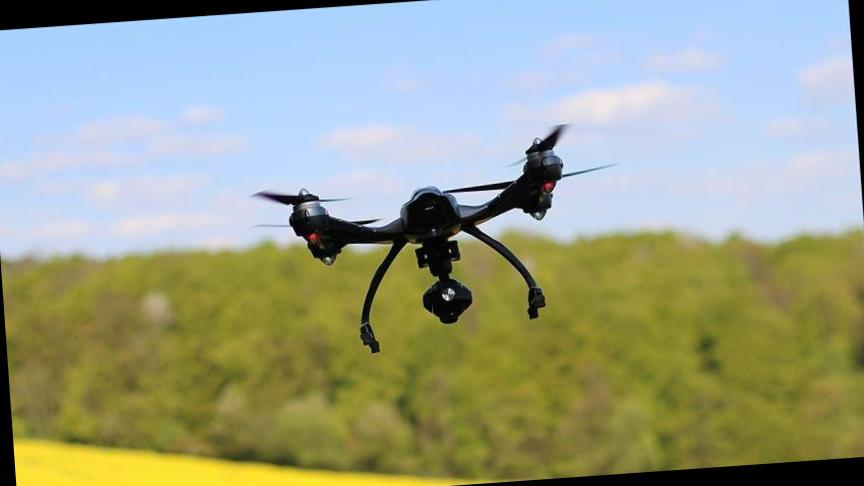drone: (219, 108, 636, 367)
